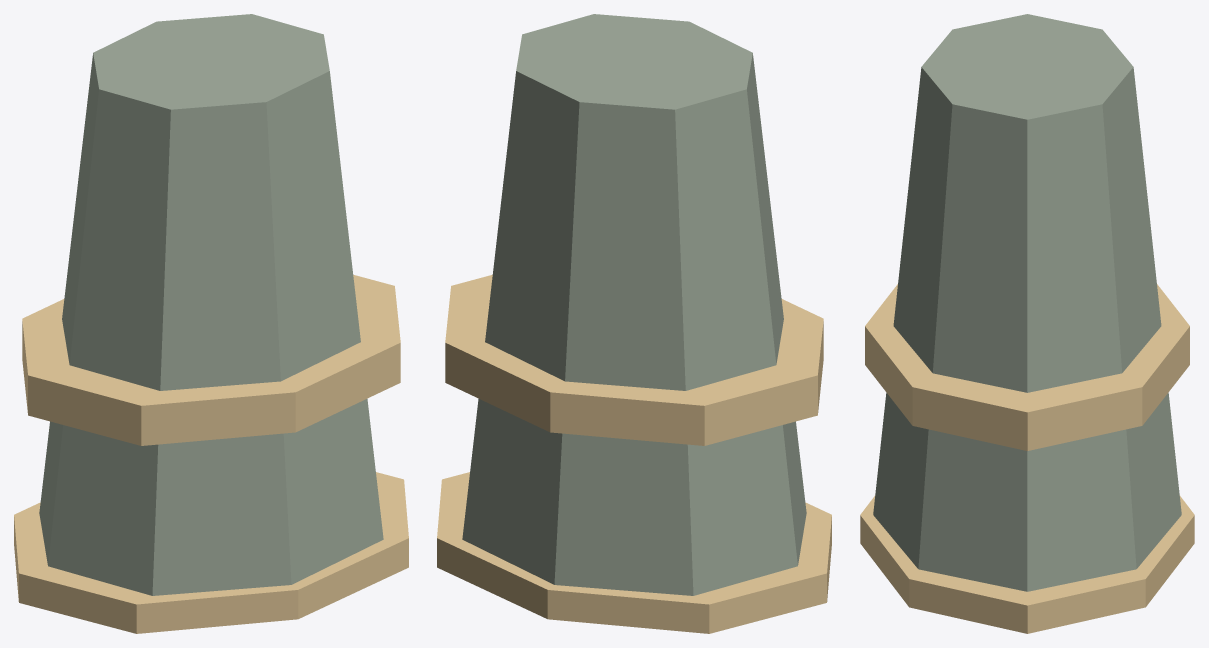
File: npc_torso_02.glb
3 renders of one model, left to right at view 1: azimuth 30°, elevation 25°; view 2: azimuth 150°, elevation 25°; view 3: azimuth 270°, elevation 25°, orthographic. The views are drawn at different scales.
Visible parts, largest first — view 1: npc_torso_02; view 2: npc_torso_02; view 3: npc_torso_02.
Boxes of the visible parts, box(x1,y1,x2,y2) form: npc_torso_02: box(14, 14, 408, 633); npc_torso_02: box(437, 14, 831, 633); npc_torso_02: box(860, 14, 1194, 633).
Bounding box in the file's own units: 0.7527 × 0.93 × 0.5871.
